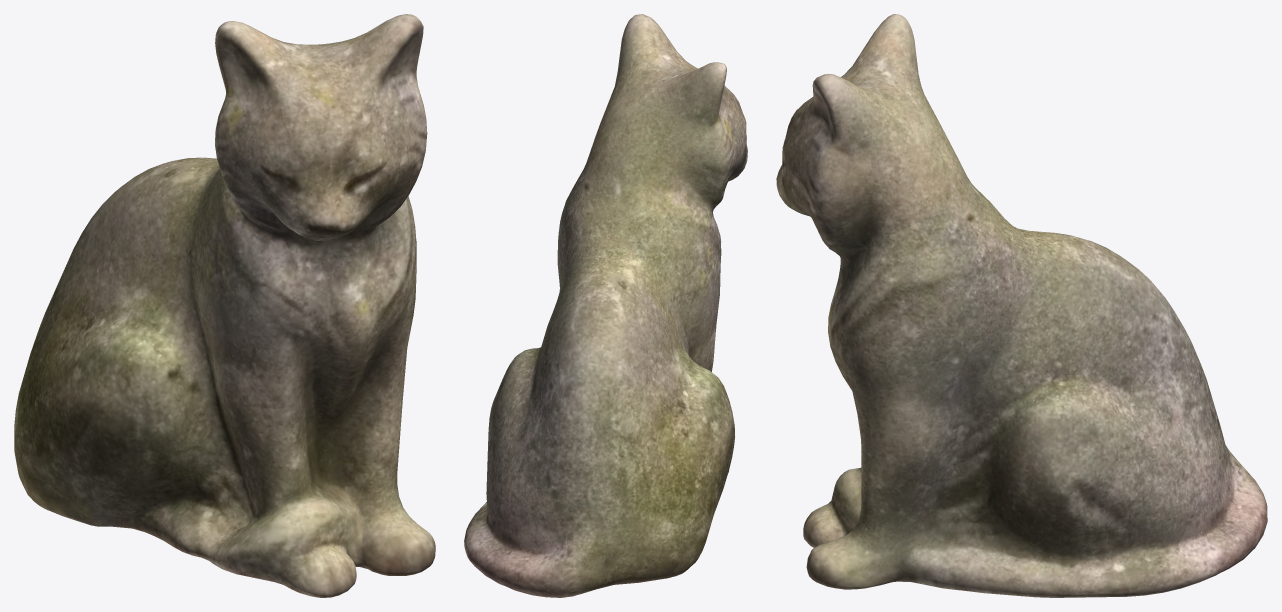
The model's file is concrete_cat_statue.glb.
3 renders of one model, left to right at view 1: azimuth 30°, elevation 25°; view 2: azimuth 150°, elevation 25°; view 3: azimuth 270°, elevation 25°, orthographic. The views are drawn at different scales.
Parts seen in each view (by area): view 1: concrete_cat_statue; view 2: concrete_cat_statue; view 3: concrete_cat_statue.
Boxes of the visible parts, x1,y1,x2,y2 form: concrete_cat_statue: (14,14,435,597); concrete_cat_statue: (464,14,747,597); concrete_cat_statue: (776,14,1267,597).
Size of the model in its own units: 0.153 by 0.283 by 0.25.
Materials: 1 (1 with a texture image).
